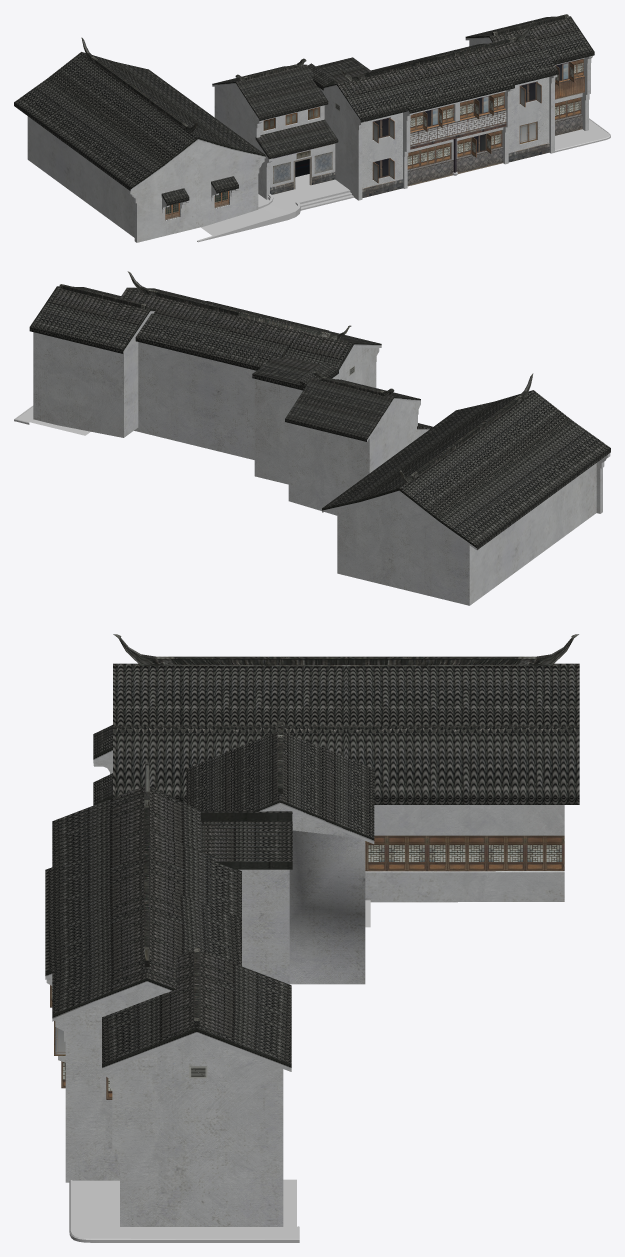
Rendered from Building_Xinyuan.FBX.
3 views of the same model, one above another, from view 1: azimuth 30°, elevation 25°; view 2: azimuth 150°, elevation 25°; view 3: azimuth 270°, elevation 25° (orthographic). The views are drawn at different scales.
Visible parts, largest first — view 1: Building_Xinyuan002, Shape001; view 2: Building_Xinyuan002; view 3: Building_Xinyuan002, Shape001, Line001.
Part boxes in pixels (bbox=[...]): Building_Xinyuan002: bbox=[14, 14, 594, 242]; Shape001: bbox=[258, 119, 609, 205]; Building_Xinyuan002: bbox=[29, 271, 610, 605]; Building_Xinyuan002: bbox=[45, 634, 579, 1226]; Shape001: bbox=[72, 900, 370, 1237]; Line001: bbox=[69, 1180, 299, 1242].
Bounding box in the file's own units: 3880 × 920 × 1899.
